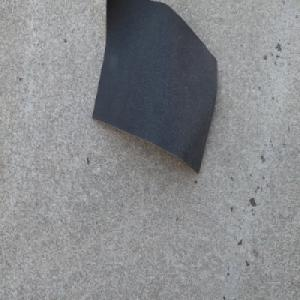PaintChip: (91, 0, 218, 175)
